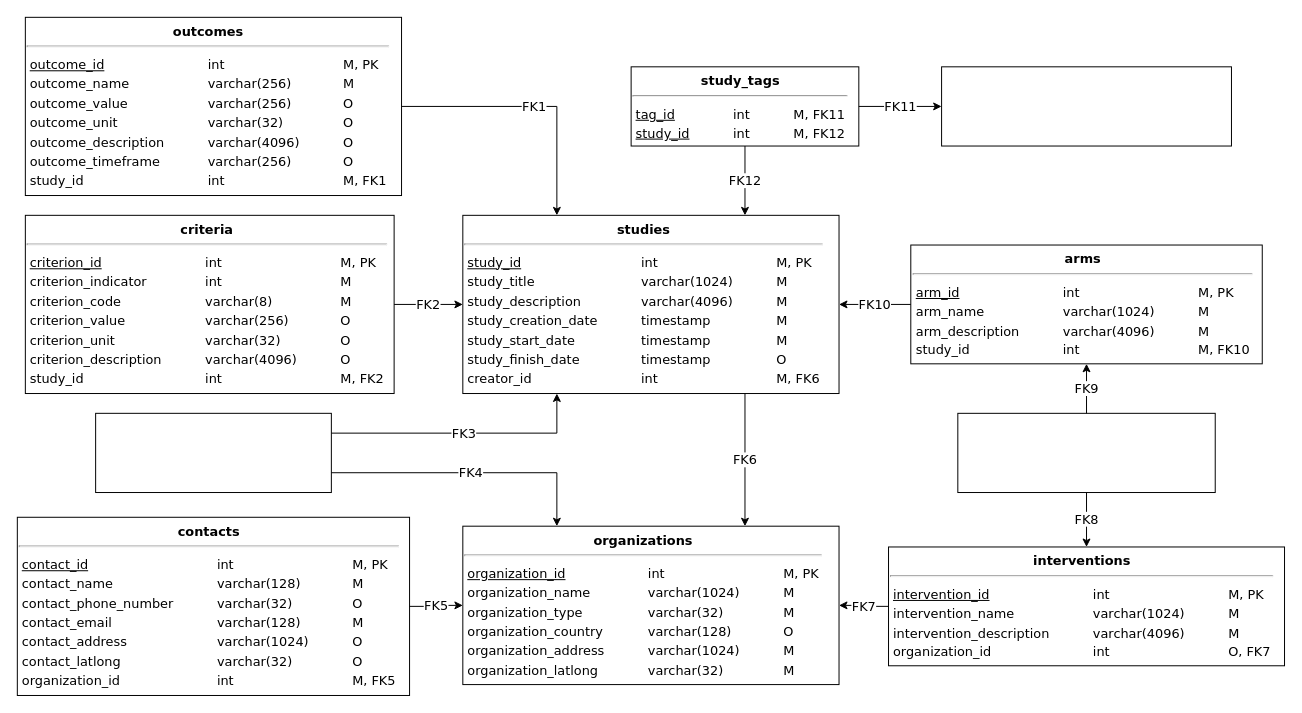
The diagram is 1302 pixels wide and 713 high, and some of its shapes have lost their labels. Here are the shapes that lost their labels. From the top down, the centre of each, then its label:
the point at 1086,106: tags tag_id int M, PK tag_name varchar(128) M, K1
the point at 213,452: study_providers provider_id int M, FK4 study_id int M, FK3
the point at 1086,452: arm_interventions arm_id int M, FK9 intervention_id int M, FK8
